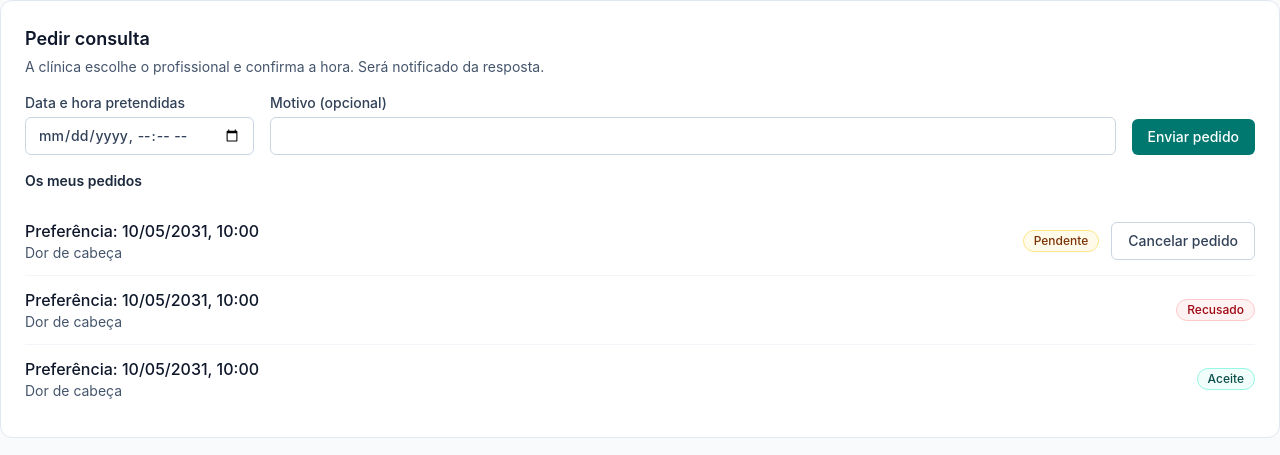
Test: AppointmentRequestsPanel — patient › cancels a pending request and shows final statuses without actions
Expected: the text "Recusado" is shown, left=1176, top=299, right=1255, bottom=321
Expected: the text "Aceite" is shown, left=1197, top=368, right=1255, bottom=390
Click the button "Cancelar pedido" at {"x": 1183, "y": 241}, box left=1111, top=222, right=1255, bottom=260
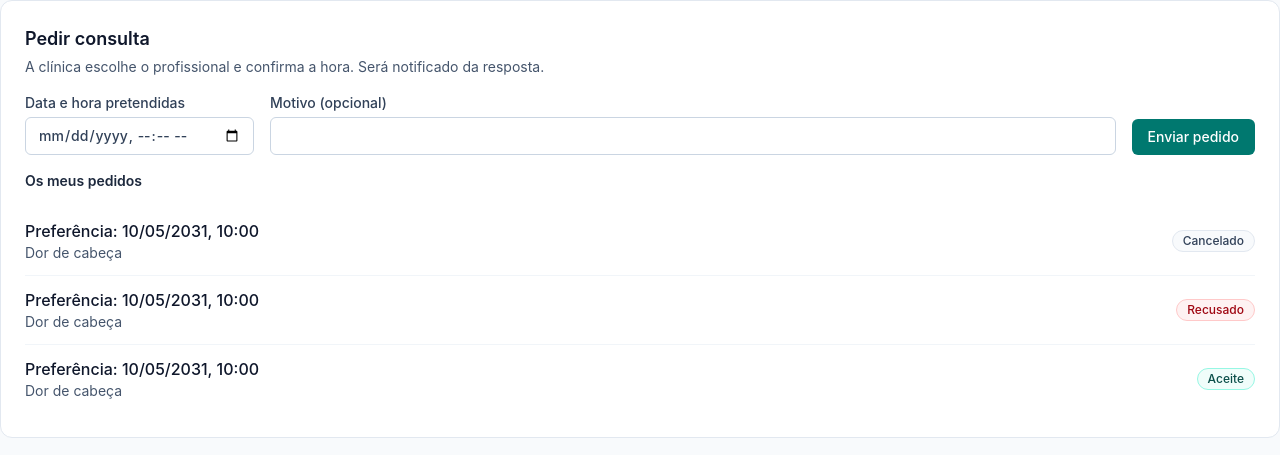
Expected: the text "Cancelado" is shown, left=1172, top=230, right=1255, bottom=252
